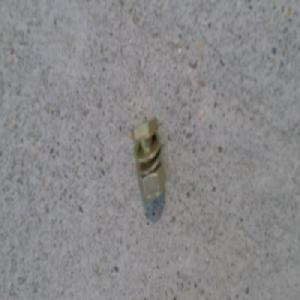BoltNutSet: (134, 118, 165, 198)
